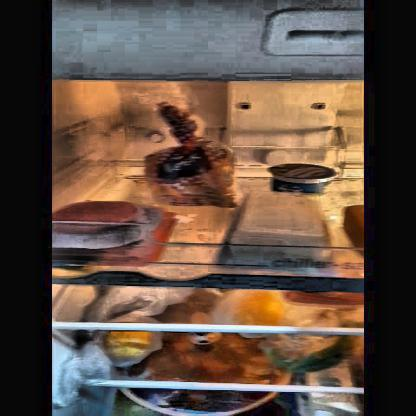cheese: (230, 195, 324, 256)
green_chillies: (262, 336, 356, 371)
lemon: (230, 292, 287, 326), (106, 330, 156, 362)
milk: (296, 373, 362, 415)
salami: (49, 201, 145, 238)
yoghurt: (272, 163, 336, 195)
